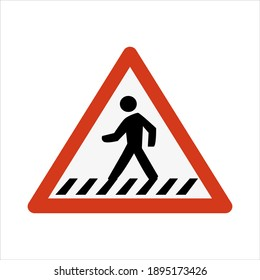pedestrian: (45, 63, 216, 208)
